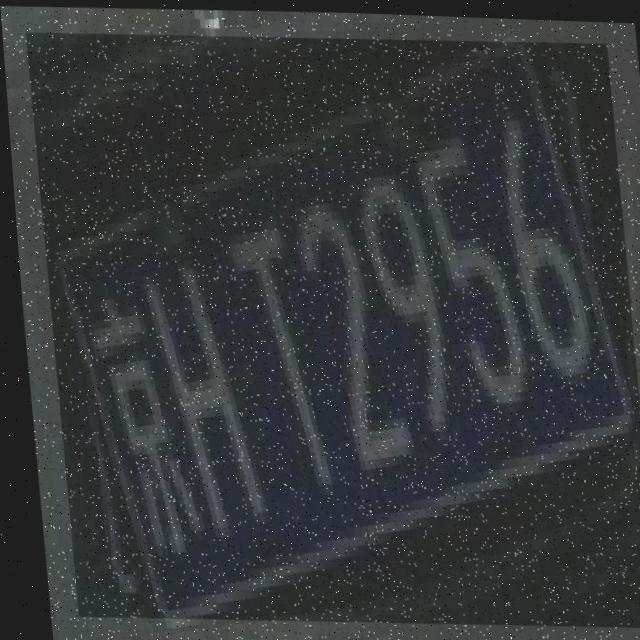LicensePlate: (24, 22, 640, 633)
